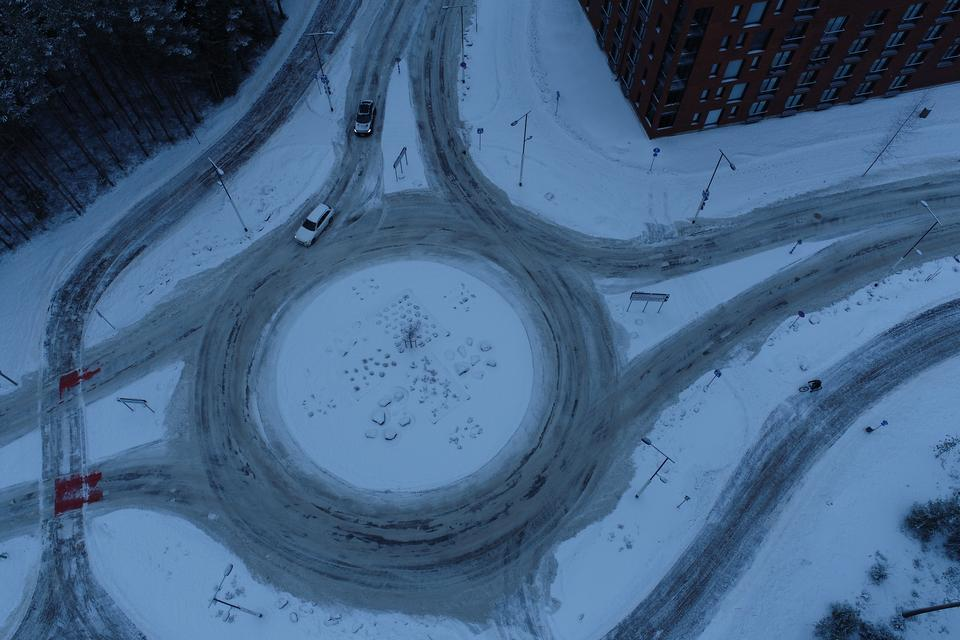intersection: (11, 305, 121, 550)
roundabout: (140, 146, 751, 640)
